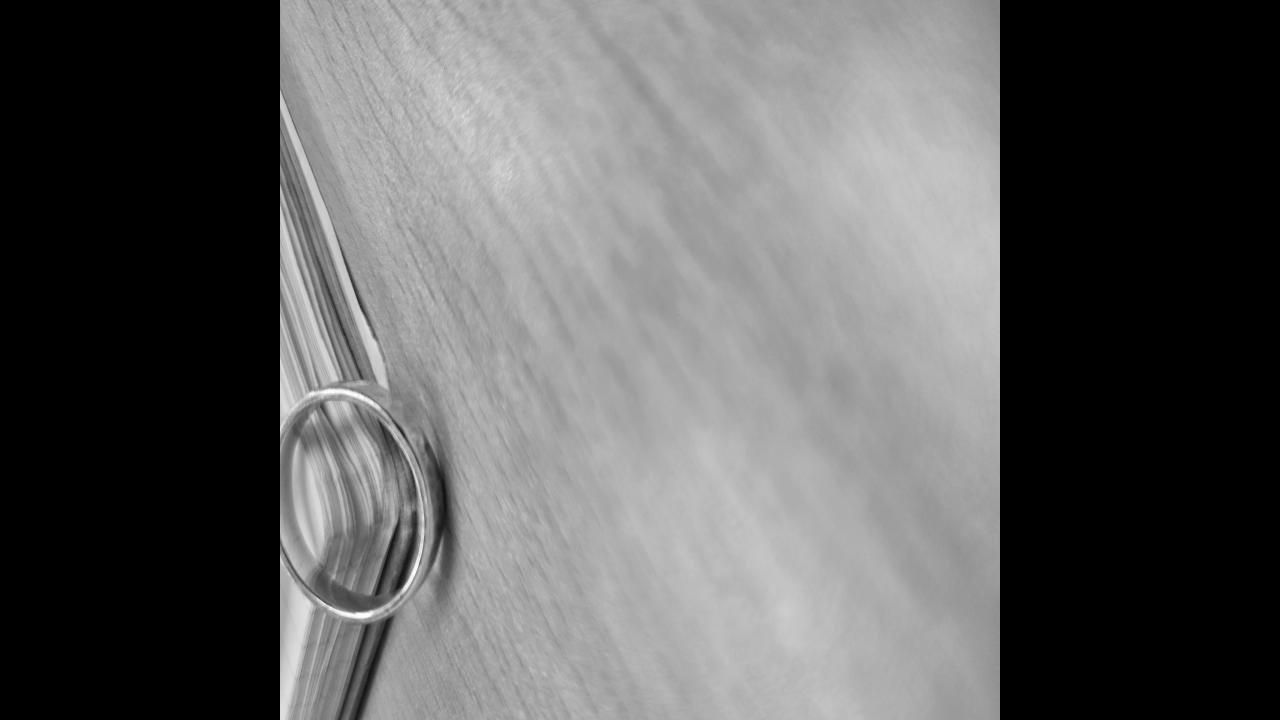ring: (281, 379, 448, 619)
